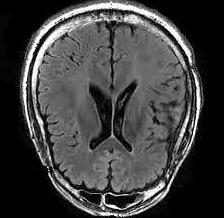Normal_Brain: (24, 1, 224, 213)
